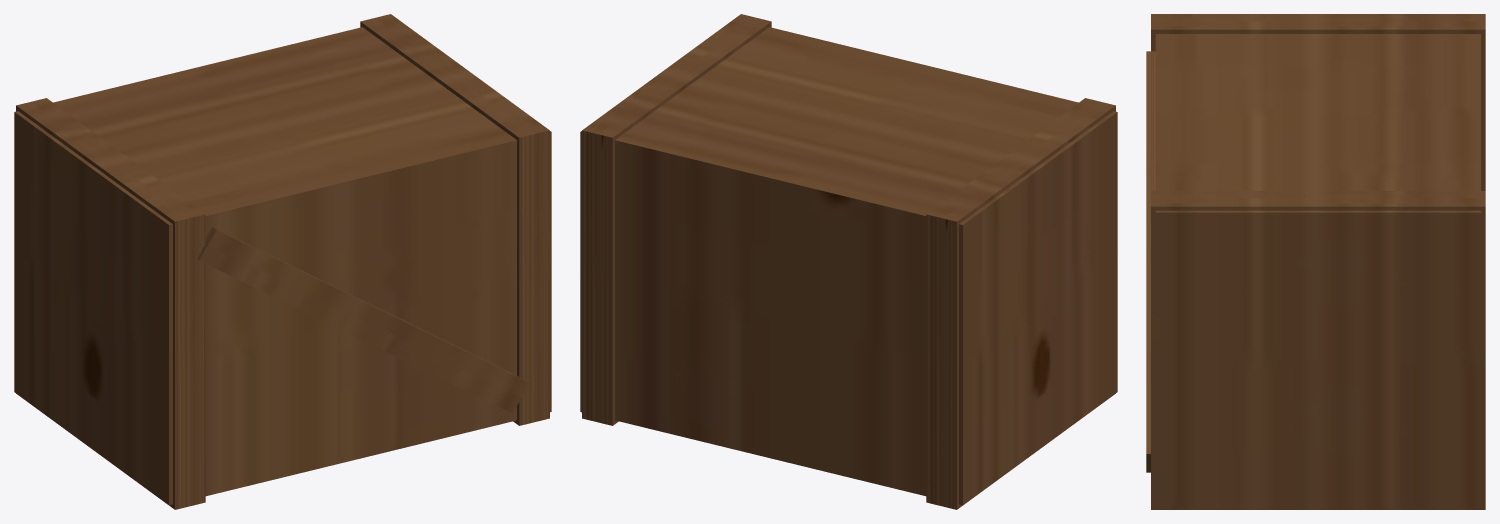
File: supply_crate.glb
The picture shows the model from 3 angles, left to right: view 1: azimuth 30°, elevation 25°; view 2: azimuth 150°, elevation 25°; view 3: azimuth 270°, elevation 25°; orthographic projection. The views are drawn at different scales.
Parts seen in each view (by area): view 1: Supply_Crate; view 2: Supply_Crate; view 3: Supply_Crate.
Boxes of the visible parts, x1,y1,x2,y2 form: Supply_Crate: (14,14,551,509); Supply_Crate: (580,14,1117,509); Supply_Crate: (1146,14,1485,509).
Size of the model in its own units: 1 by 0.7201 by 0.7299.
1 material, 1 textured.
